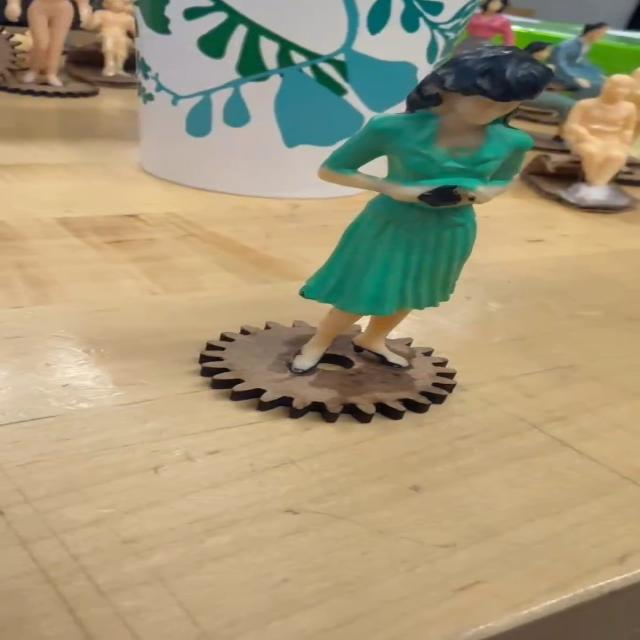Authorized: (298, 32, 529, 360)
